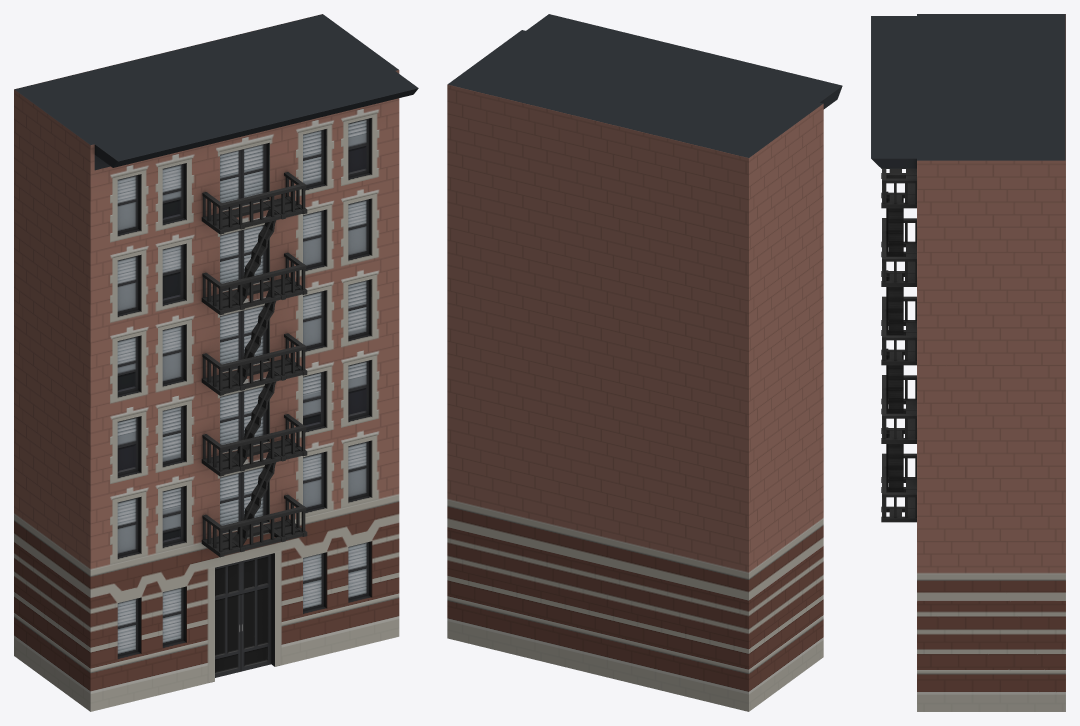
The model's file is nyc-tenement.glb.
3 renders of one model, left to right at view 1: azimuth 30°, elevation 25°; view 2: azimuth 150°, elevation 25°; view 3: azimuth 270°, elevation 25°, orthographic. The views are drawn at different scales.
Visible parts, largest first — view 1: Apartment_mesh; view 2: Apartment_mesh; view 3: Apartment_mesh.
Boxes of the visible parts, <box> form: Apartment_mesh: <box>14,14,418,711</box>; Apartment_mesh: <box>447,14,842,711</box>; Apartment_mesh: <box>871,14,1065,711</box>.
Bounding box in the file's own units: 10.32 × 18.1 × 5.79.
Materials: 1 (1 with a texture image).
